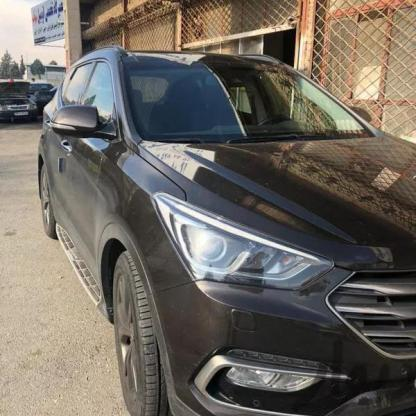Car: (39, 30, 416, 416), (0, 72, 59, 135)
